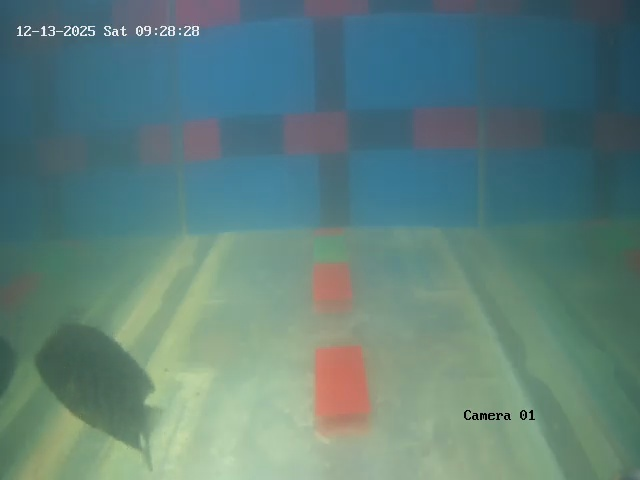fish: (37, 307, 156, 451)
